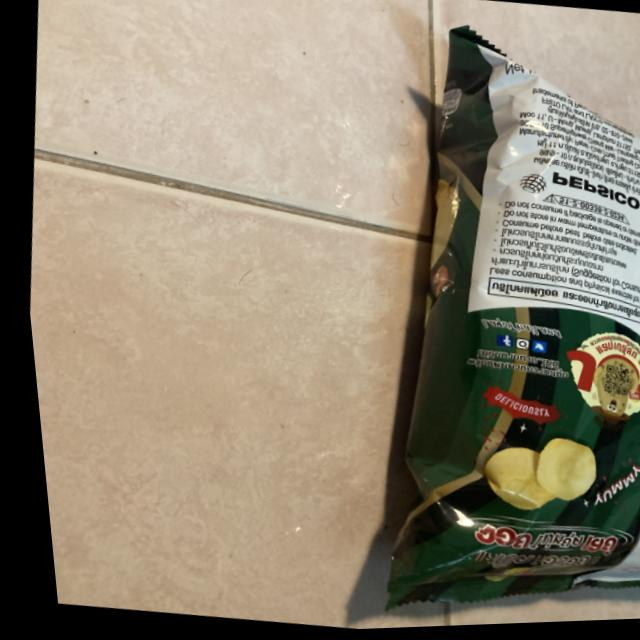Laygreen: (327, 2, 640, 631)
